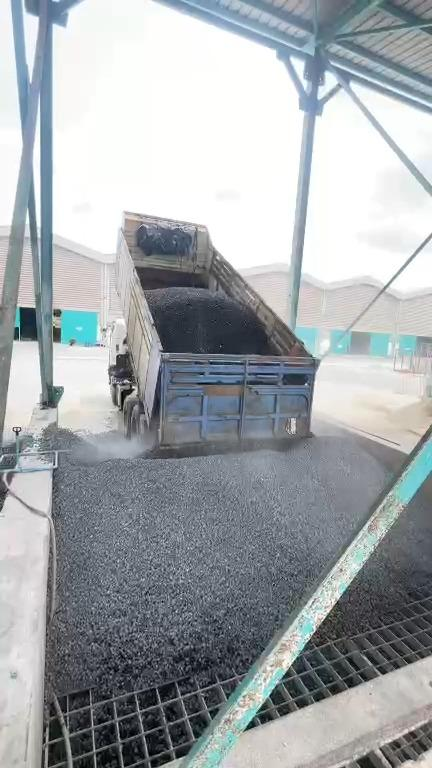gravel: (36, 409, 402, 695), (321, 480, 431, 637), (145, 287, 269, 353), (0, 443, 14, 467), (20, 433, 31, 450), (0, 476, 5, 508)
sand: (344, 400, 431, 445)
